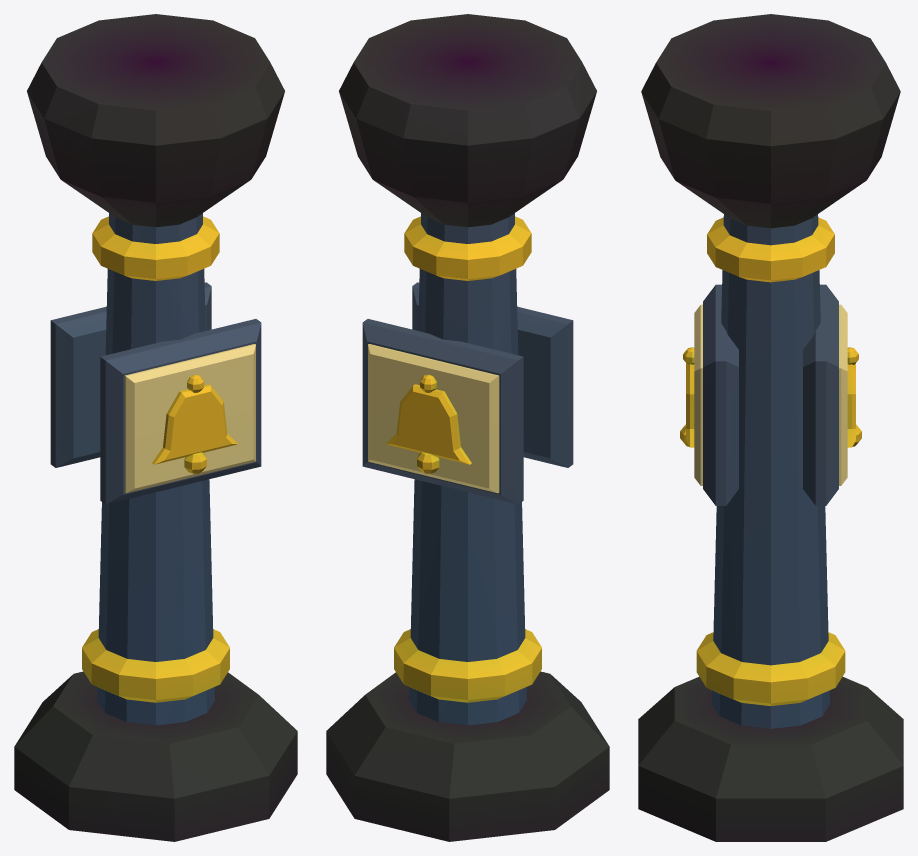
Rendered from Service_BellPost.glb.
3 views of the same model, side by side, from view 1: azimuth 30°, elevation 25°; view 2: azimuth 150°, elevation 25°; view 3: azimuth 270°, elevation 25° (orthographic).
Visible parts, largest first — view 1: Service_BellPost; view 2: Service_BellPost; view 3: Service_BellPost.
Part boxes in pixels (bbox=[...]): Service_BellPost: bbox=[14, 14, 297, 841]; Service_BellPost: bbox=[326, 14, 609, 841]; Service_BellPost: bbox=[638, 14, 903, 841].
Bounding box in the file's own units: 0.2494 × 0.75 × 0.2494.
